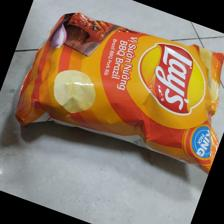Lays: (13, 9, 224, 175)
